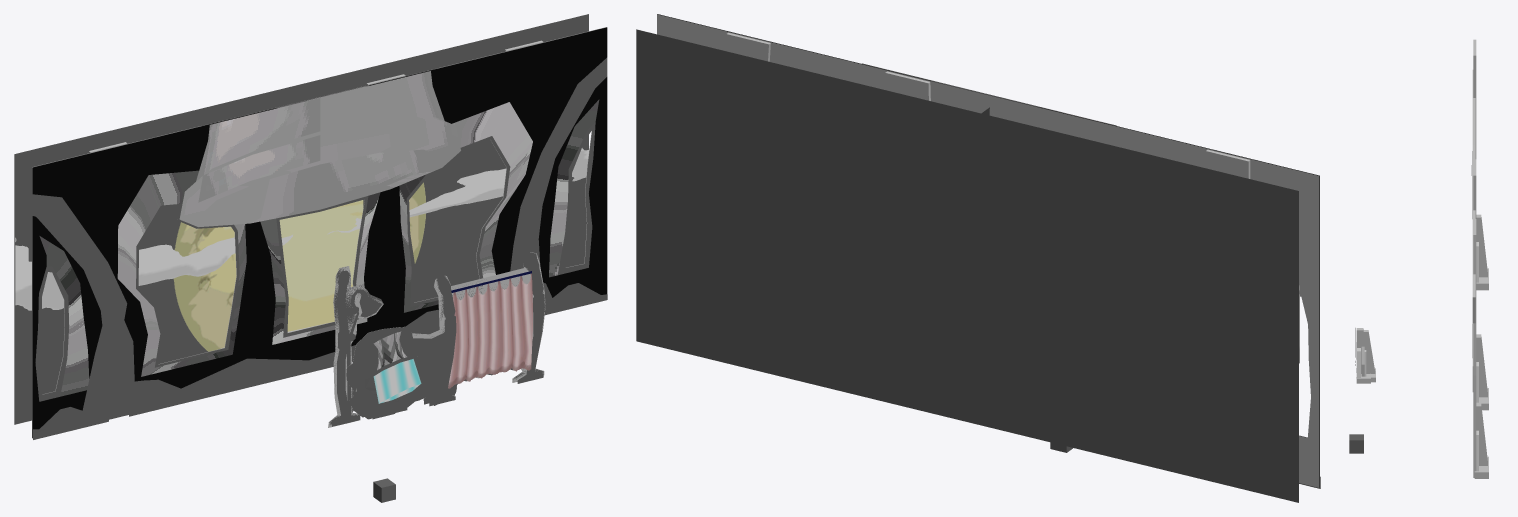
Rendered from stg_04_4_bake.dae.
3 renders of one model, left to right at view 1: azimuth 30°, elevation 25°; view 2: azimuth 150°, elevation 25°; view 3: azimuth 270°, elevation 25°, orthographic. The views are drawn at different scales.
Visible parts, largest first — view 1: polySurface1315_q00095_part1, pCube5_q00120, polySurface1316_q00096, polySurface1315_q00095_part0, pPlane2_q00121, polySurface1307_q00090, polySurface28_q00028_part1, polySurface1317_q00118, polySurface1308_q00092, pPlane4_q00123, polySurface1312_q00091, pPlane443 (+14 smaller); view 2: pCube5_q00120, polySurface1317_q00117, polySurface1317_q00118, polySurface1254_q00106, polySurface1255_q00107, polySurface1253_q00105; view 3: polySurface1253_q00105, polySurface1250_q00104, pCube24_q00113, pCube24_q00116, pCube24_q00110, polySurface1255_q00107, pCube25, pCube24_q00034, pCube24_q00008, polySurface1254_q00106.
Part boxes in pixels (x1,y1,x2,y2): polySurface1315_q00095_part1: [32, 27, 607, 438]; pCube5_q00120: [14, 14, 588, 424]; polySurface1316_q00096: [179, 71, 460, 227]; polySurface1315_q00095_part0: [39, 85, 599, 396]; pPlane2_q00121: [173, 182, 425, 351]; polySurface1307_q00090: [32, 194, 134, 419]; polySurface28_q00028_part1: [448, 273, 532, 388]; polySurface1317_q00118: [32, 27, 606, 401]; polySurface1308_q00092: [129, 270, 515, 416]; pPlane4_q00123: [15, 234, 292, 310]; polySurface1312_q00091: [510, 57, 607, 271]; pPlane443: [328, 252, 545, 427]; pCube5_q00120: [636, 29, 1298, 502]; polySurface1317_q00117: [657, 14, 1319, 487]; polySurface1317_q00118: [657, 14, 1319, 487]; polySurface1254_q00106: [885, 71, 930, 100]; polySurface1255_q00107: [1206, 149, 1250, 178]; polySurface1253_q00105: [725, 32, 770, 61]; polySurface1253_q00105: [1473, 219, 1476, 477]; polySurface1250_q00104: [1472, 70, 1475, 323]; pCube24_q00113: [1476, 334, 1487, 397]; pCube24_q00116: [1476, 214, 1487, 277]; pCube24_q00110: [1476, 403, 1487, 465]; polySurface1255_q00107: [1473, 39, 1476, 158]; pCube25: [1349, 434, 1363, 453]; pCube24_q00034: [1356, 328, 1370, 373]; pCube24_q00008: [1363, 330, 1375, 373]; polySurface1254_q00106: [1473, 159, 1476, 218].
Bounding box in the file's own units: 40 × 23.5 × 10.5.
